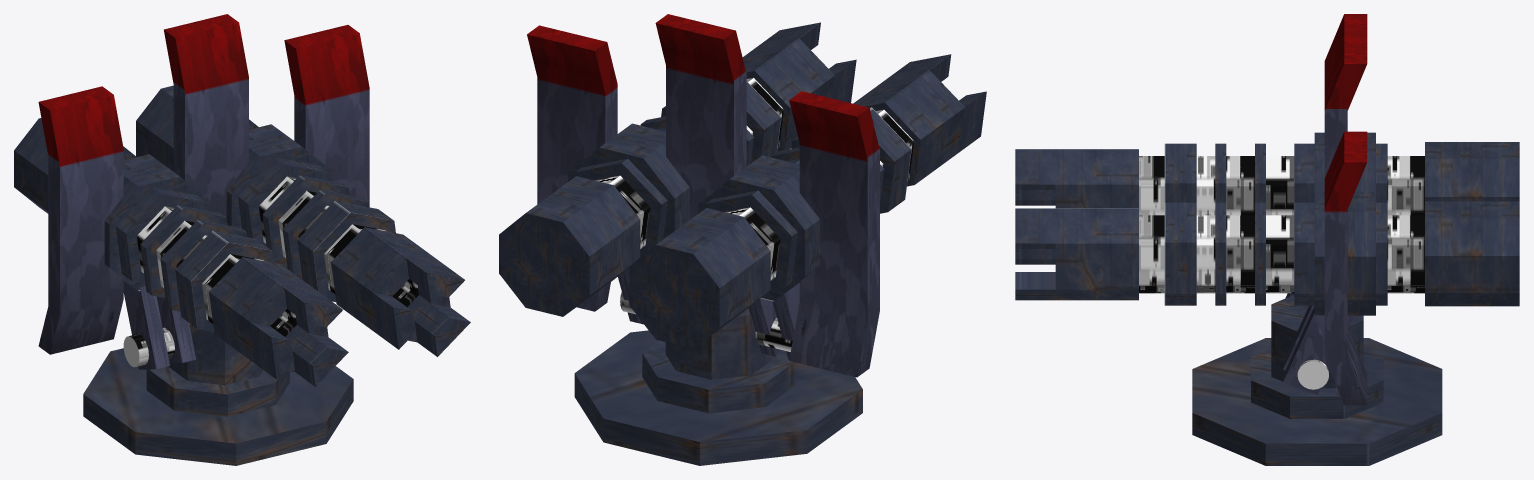
Rendered from Turret1.fbx.
3 renders of one model, left to right at view 1: azimuth 30°, elevation 25°; view 2: azimuth 150°, elevation 25°; view 3: azimuth 270°, elevation 25°, orthographic. The views are drawn at different scales.
Parts seen in each view (by area): view 1: polySurface52, polySurface51; view 2: polySurface52, polySurface51; view 3: polySurface52, polySurface51.
Part boxes in pixels (bbox=[...]): polySurface52: bbox=[14, 14, 470, 386]; polySurface51: bbox=[83, 323, 353, 465]; polySurface52: bbox=[499, 14, 986, 377]; polySurface51: bbox=[574, 291, 862, 465]; polySurface52: bbox=[1015, 14, 1519, 405]; polySurface51: bbox=[1192, 295, 1442, 465].
Size of the model in its own units: 0.7054 by 0.8014 by 1.
Materials: 2 (2 with a texture image).
